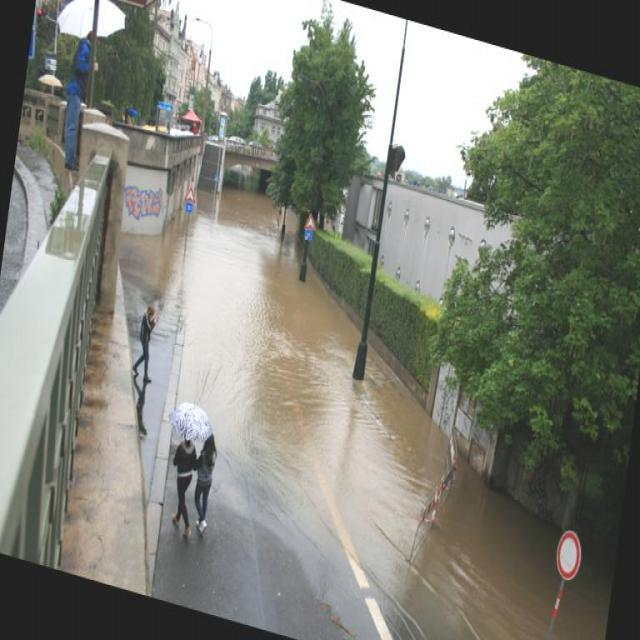flood: (109, 164, 640, 639)
